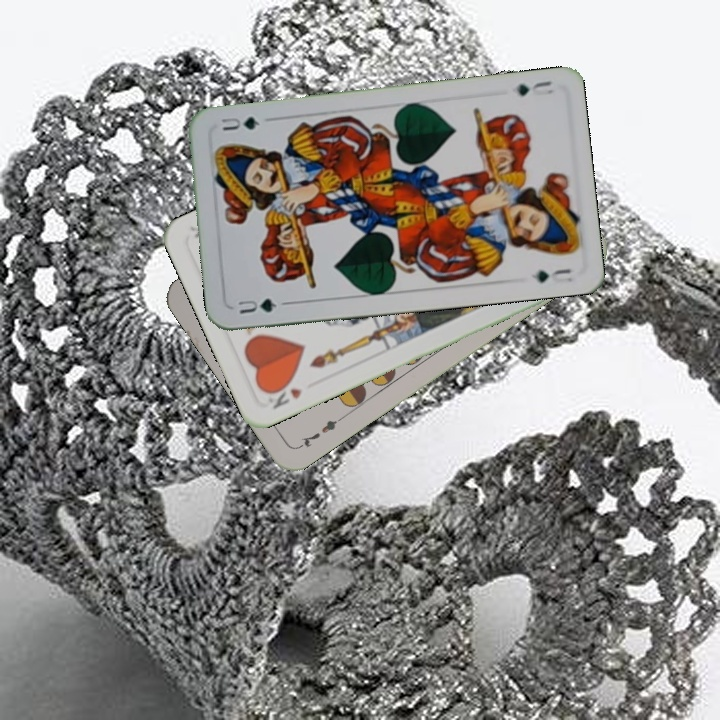E7: (294, 412, 346, 452)
GU: (234, 294, 280, 317), (512, 77, 557, 99)
HK: (262, 377, 305, 412)
